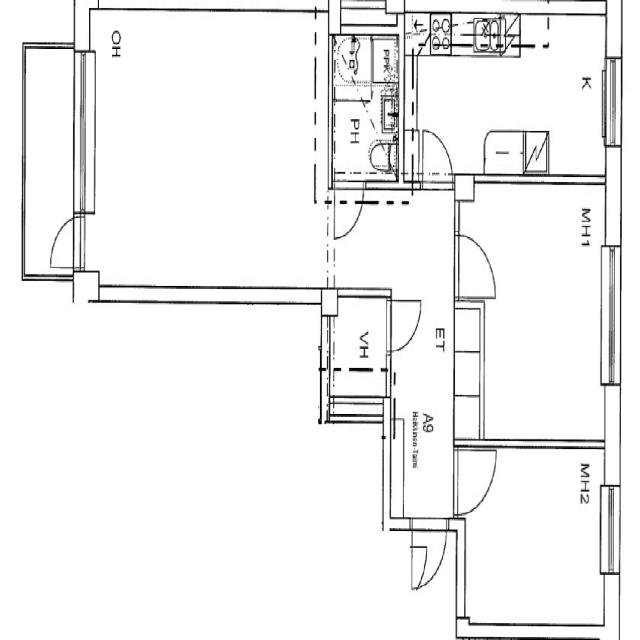door: (454, 227, 499, 303), (454, 443, 499, 518), (407, 519, 450, 595), (420, 123, 456, 186), (386, 296, 424, 354), (332, 184, 366, 242), (48, 215, 78, 271), (412, 28, 430, 56), (359, 84, 373, 112)
window: (599, 249, 623, 394), (598, 478, 623, 585), (600, 50, 624, 156)
zone: (82, 8, 318, 303), (470, 183, 614, 445), (411, 20, 608, 179), (457, 444, 609, 632), (23, 36, 77, 281), (329, 294, 391, 388), (331, 98, 395, 181), (333, 34, 373, 98), (372, 36, 398, 88)
